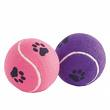tennis ball: (4, 38, 59, 93), (54, 32, 106, 87)
